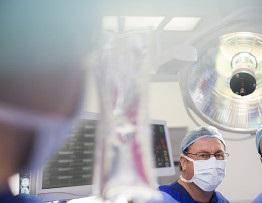OK: (189, 148, 230, 189)
